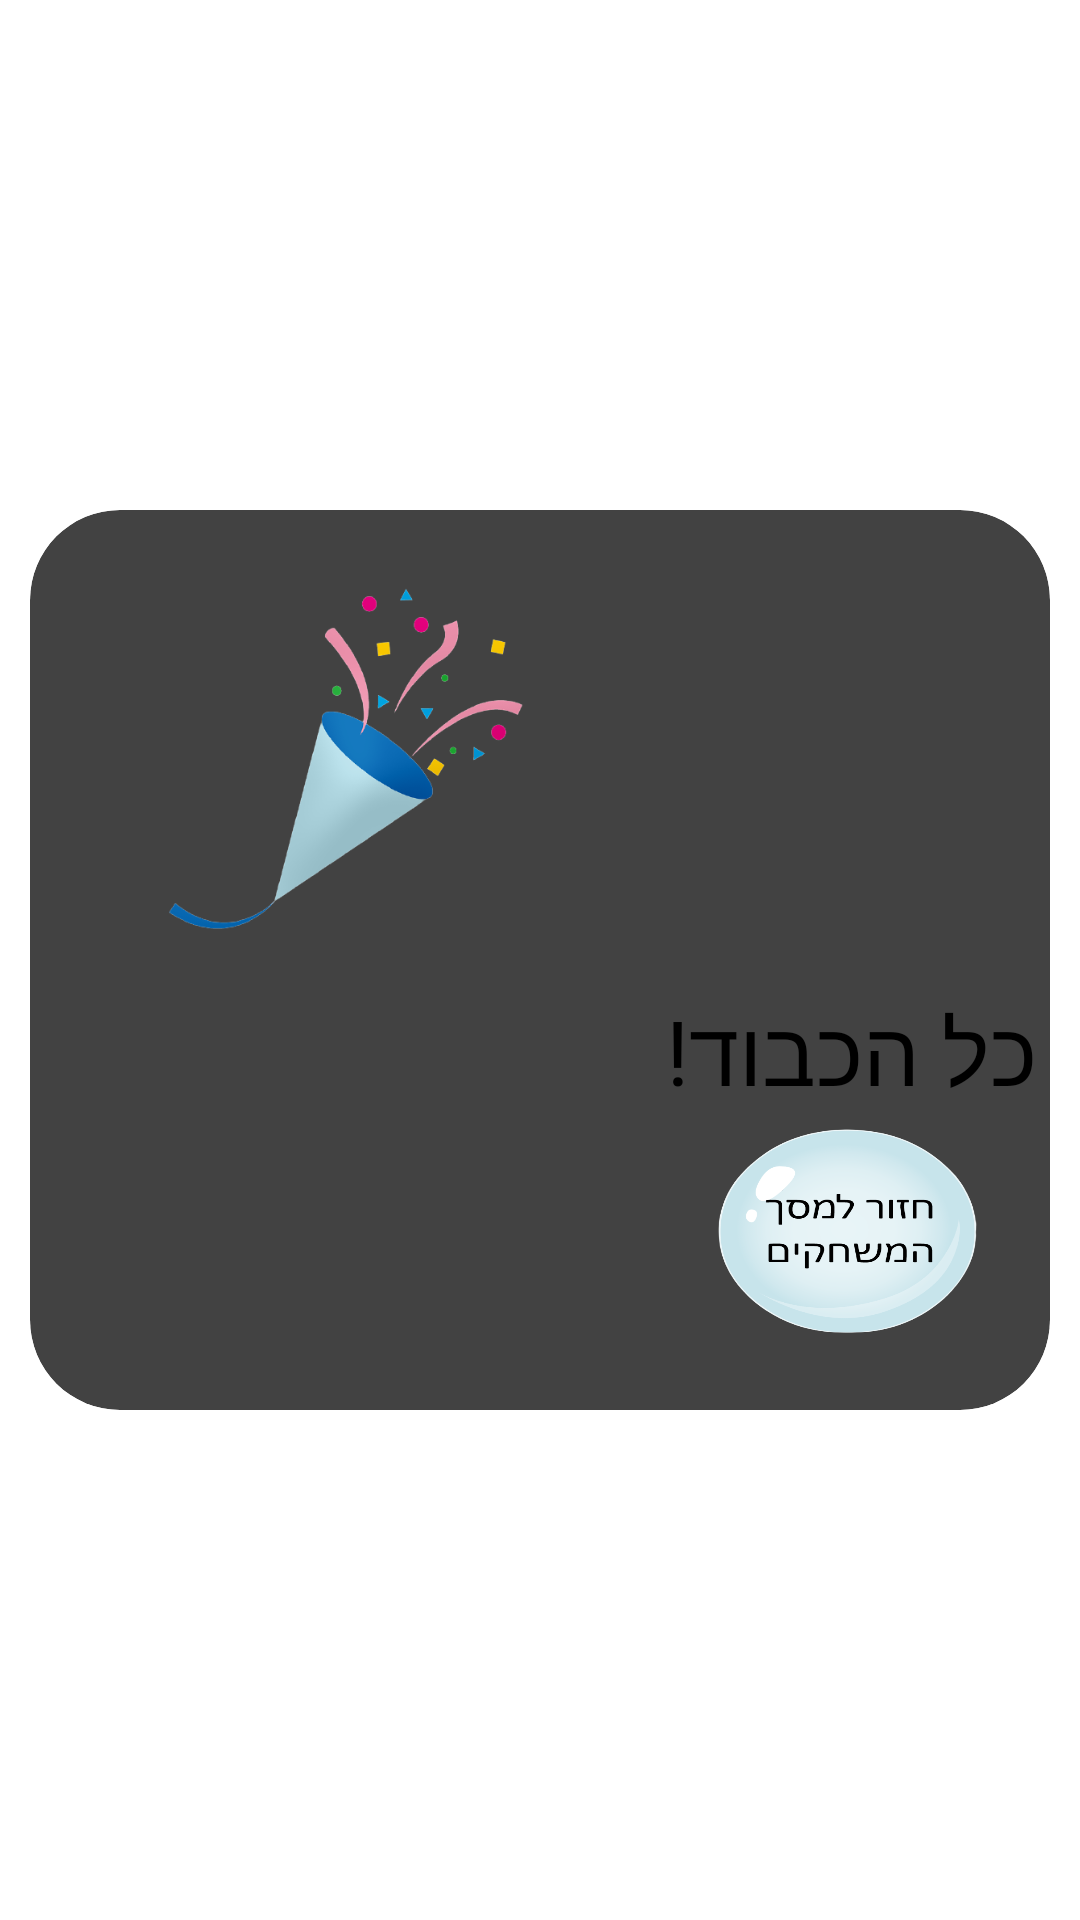

Point at icon controls on the screen. Image size 1080×1920, points as [x,y].
success pop up confetti: [346,759]
